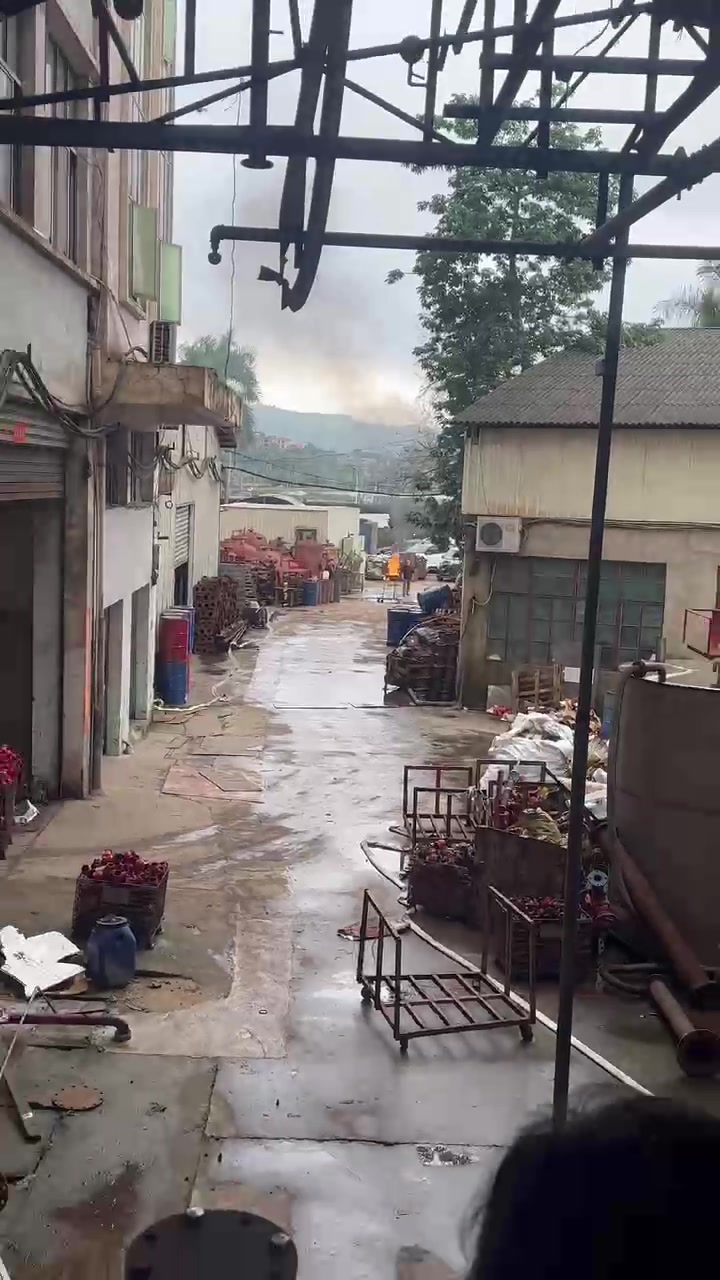fire: (387, 554, 398, 575)
